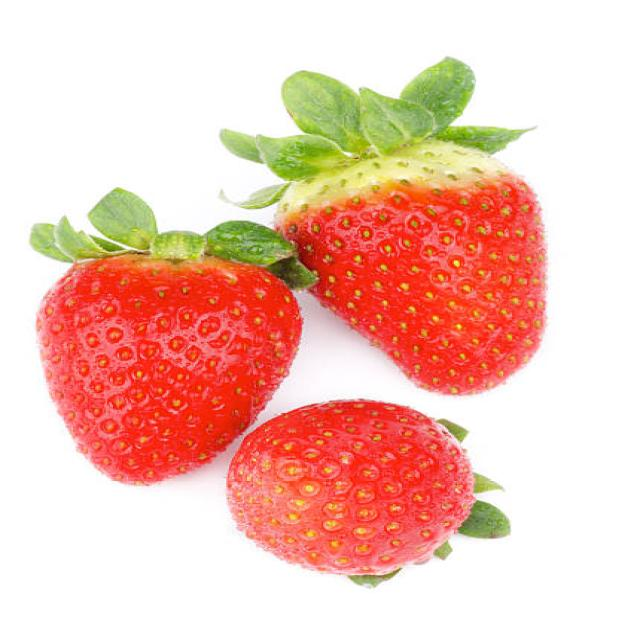Healthy Fruit: (275, 143, 549, 396), (35, 255, 301, 485), (225, 400, 475, 578)
